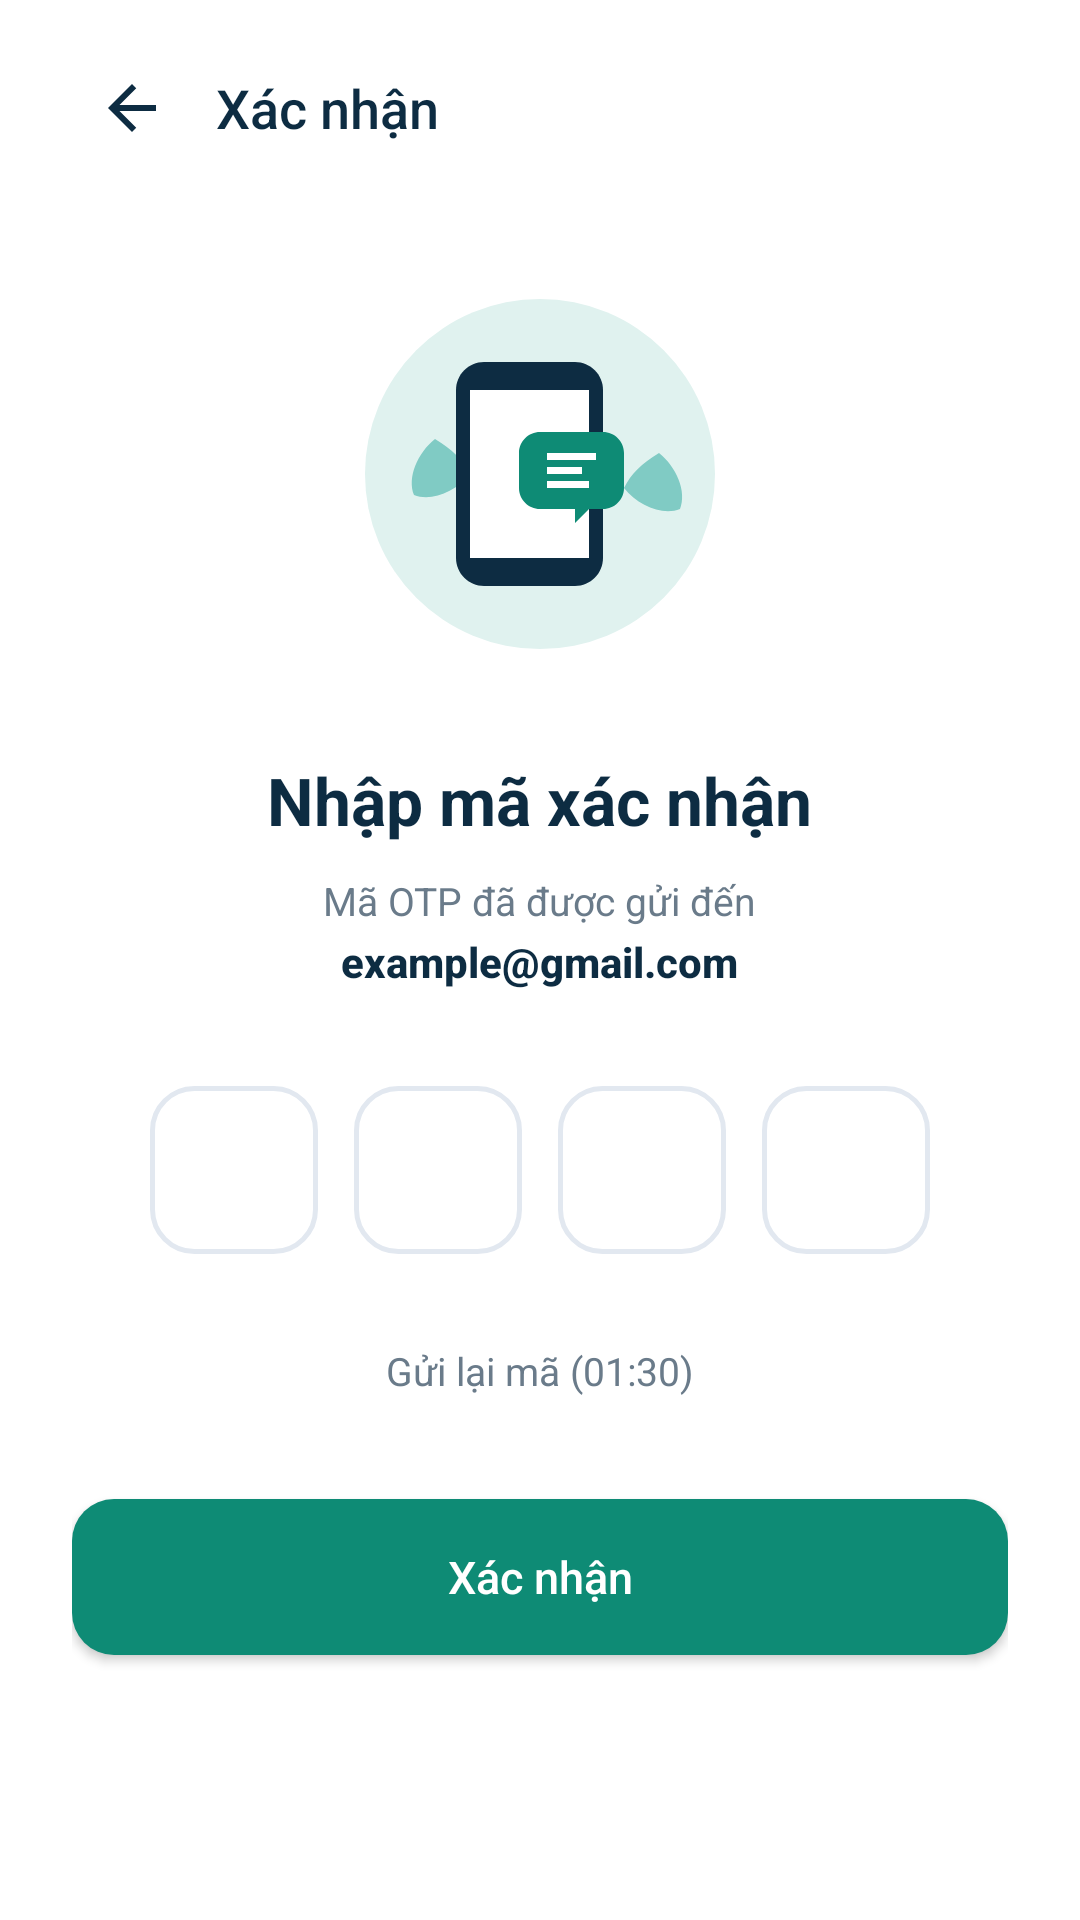

Screen size 1080px x 1920px. Icon name, then its box in pixels as (x1, y1, x2, y2):
Quay lại: (108, 84, 156, 132)
